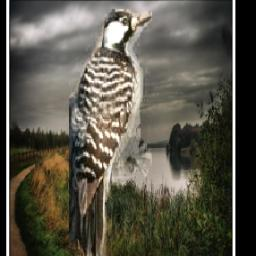Woodpecker: (70, 10, 153, 256)
